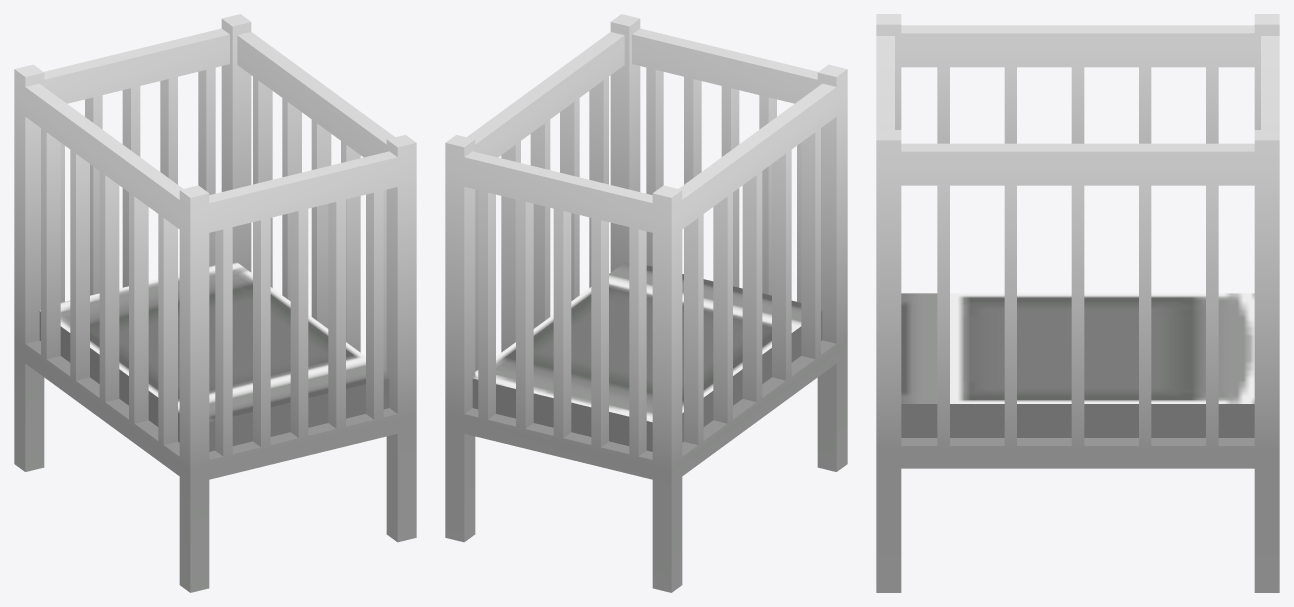
Rendered from Building_Crib.glb.
The picture shows the model from 3 angles, left to right: view 1: azimuth 30°, elevation 25°; view 2: azimuth 150°, elevation 25°; view 3: azimuth 270°, elevation 25°; orthographic projection. The views are drawn at different scales.
Visible parts, largest first — view 1: Crib; view 2: Crib; view 3: Crib.
Part boxes in pixels (x1=…): Crib: x1=14, y1=14, x2=416, y2=592; Crib: x1=445, y1=14, x2=847, y2=592; Crib: x1=876, y1=14, x2=1279, y2=592.
Size of the model in its own units: 0.4792 by 0.8 by 0.6458.
Materials: 1 (1 with a texture image).
